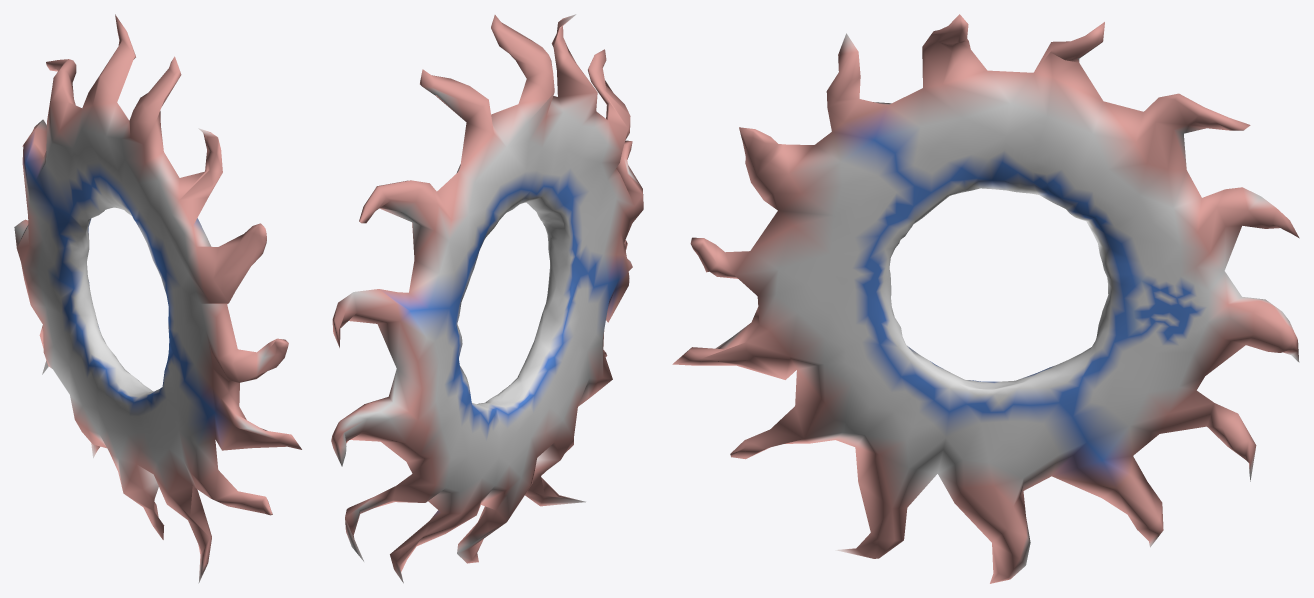
Rendered from sawblade1Damage.dae.
The picture shows the model from 3 angles, left to right: view 1: azimuth 30°, elevation 25°; view 2: azimuth 150°, elevation 25°; view 3: azimuth 270°, elevation 25°; orthographic projection. The views are drawn at different scales.
Visible parts, largest first — view 1: Model; view 2: Model; view 3: Model.
Boxes of the visible parts, bbox=[...] form: Model: bbox=[14, 14, 301, 583]; Model: bbox=[331, 14, 643, 583]; Model: bbox=[672, 14, 1299, 583].
Bounding box in the file's own units: 0.937 × 7.46 × 7.46.
